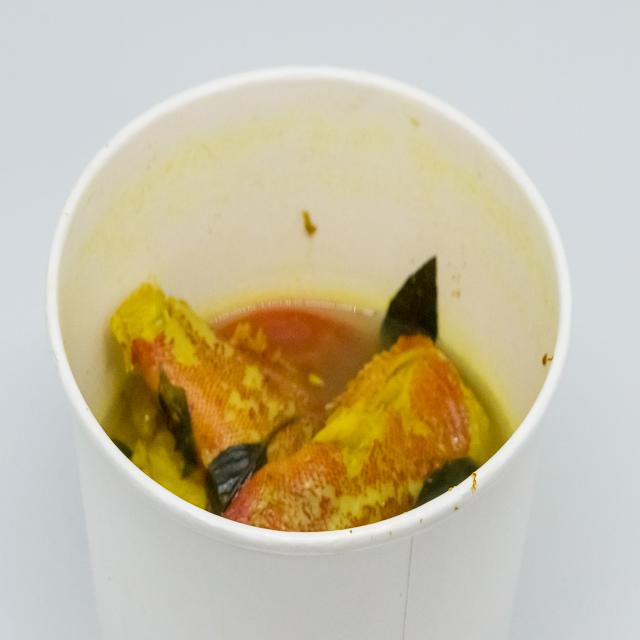Gulai-Ikan-Mas: (41, 251, 583, 559)
